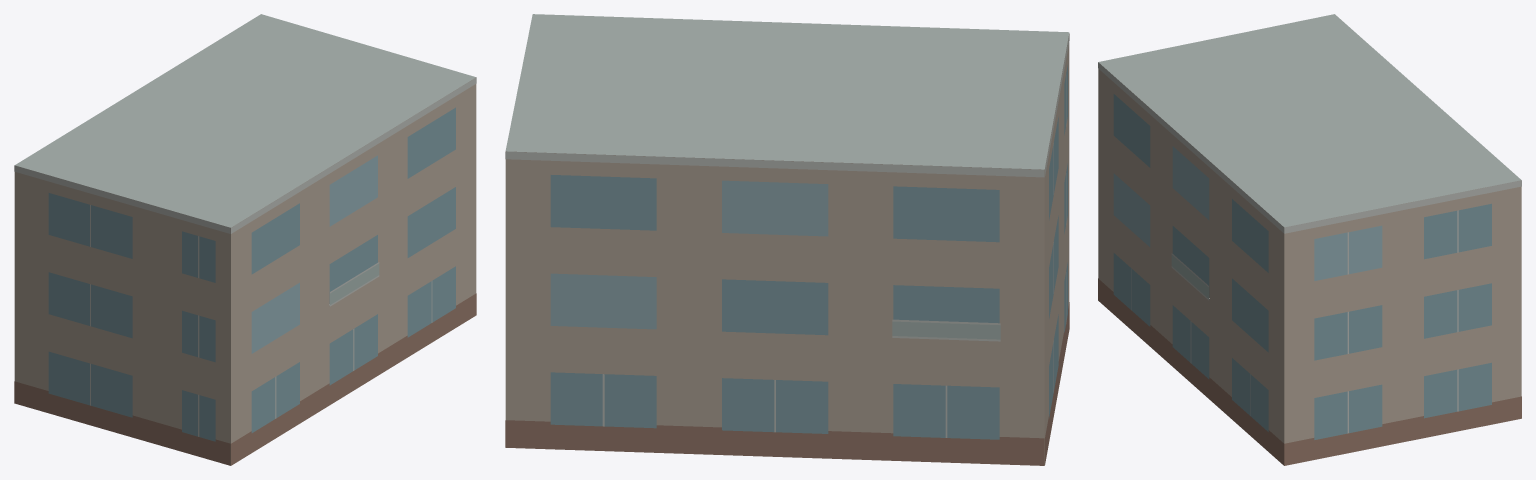
The model's file is survey-upis-32698000.glb.
3 views of the same model, side by side, from view 1: azimuth 30°, elevation 25°; view 2: azimuth 150°, elevation 25°; view 3: azimuth 270°, elevation 25° (orthographic). The views are drawn at different scales.
Visible parts, largest first — view 1: survey-upis-32698000.tmp; view 2: survey-upis-32698000.tmp; view 3: survey-upis-32698000.tmp.
Boxes of the visible parts, box(x1,y1,x2,y2) form: survey-upis-32698000.tmp: box(14, 14, 476, 465); survey-upis-32698000.tmp: box(505, 14, 1069, 465); survey-upis-32698000.tmp: box(1098, 14, 1521, 465).
Size of the model in its own units: 17.57 by 9.15 by 14.74.
